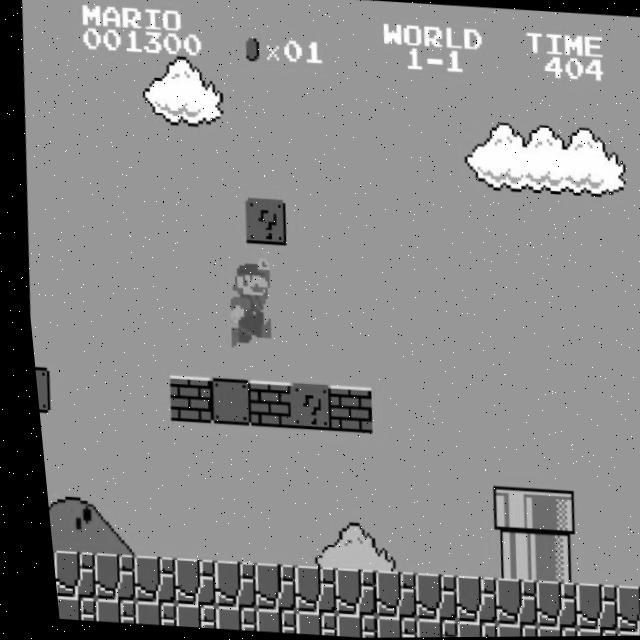0- big_mario: (214, 253, 271, 350)
1- brick_block: (158, 374, 206, 424), (238, 380, 286, 429), (318, 385, 366, 434)
13- mystery_block: (278, 382, 326, 432), (237, 197, 285, 246)
14- pipe: (480, 532, 527, 581), (520, 534, 567, 583)
15- pipe_head: (480, 486, 527, 535), (520, 489, 567, 538)
17- undestructible_block: (119, 554, 167, 604), (79, 552, 127, 601), (199, 560, 247, 609), (239, 562, 287, 611), (279, 565, 327, 614), (360, 570, 408, 619), (480, 578, 528, 627), (520, 580, 568, 629), (560, 583, 608, 632), (159, 557, 206, 606), (320, 567, 367, 616), (400, 572, 447, 621), (440, 575, 487, 624), (42, 549, 86, 598), (600, 585, 640, 634), (281, 610, 326, 637), (80, 598, 125, 624), (161, 603, 206, 629), (201, 605, 246, 631), (241, 608, 286, 634), (121, 600, 165, 626), (321, 612, 365, 638), (45, 595, 85, 621), (361, 615, 405, 638), (401, 618, 445, 638), (441, 620, 485, 638), (481, 622, 525, 637), (522, 625, 565, 637), (562, 628, 605, 637), (602, 631, 640, 637)
3- empty_block: (198, 377, 246, 426), (28, 365, 44, 412)
